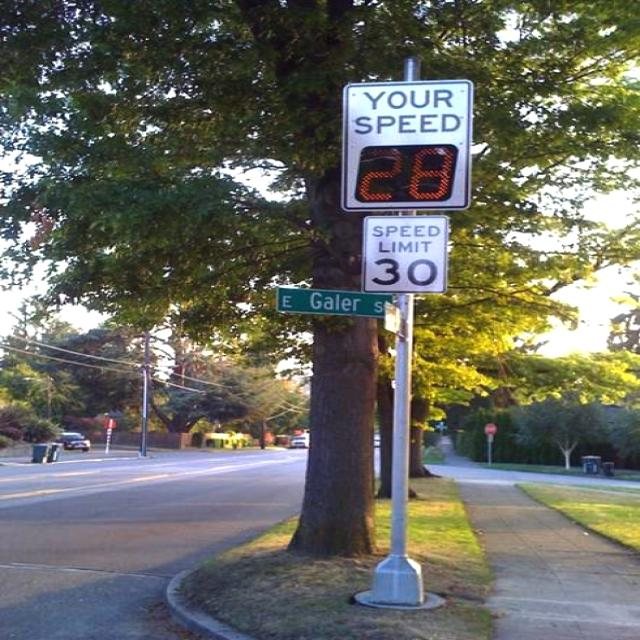Speed Limit Signs: (360, 213, 454, 299)
